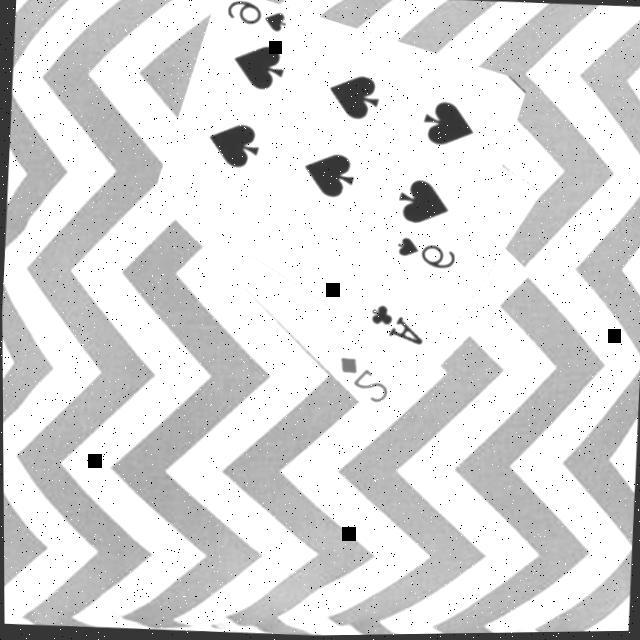2D: (334, 353, 394, 409)
6S: (394, 233, 462, 276), (225, 0, 292, 36)
AC: (368, 300, 430, 350)
